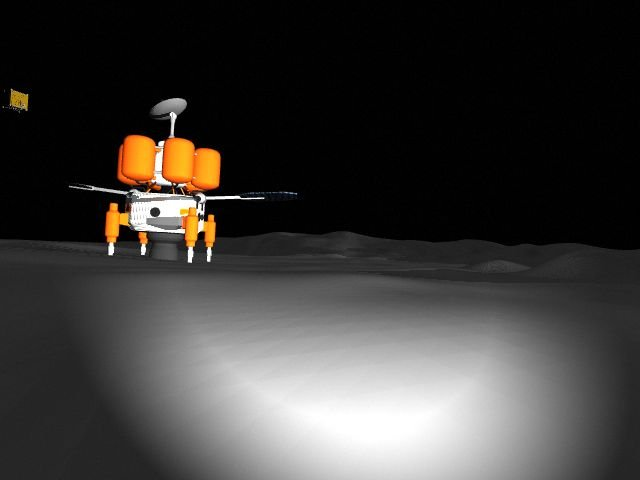cubesat: (1, 86, 33, 117)
